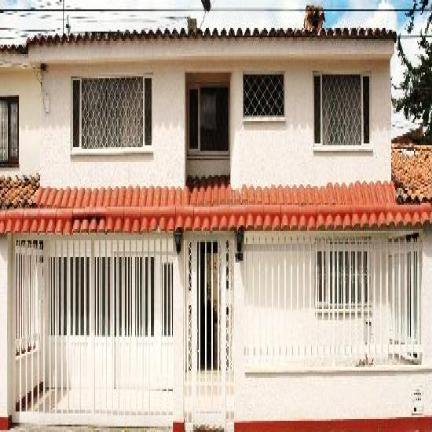casa: (0, 26, 431, 430)
